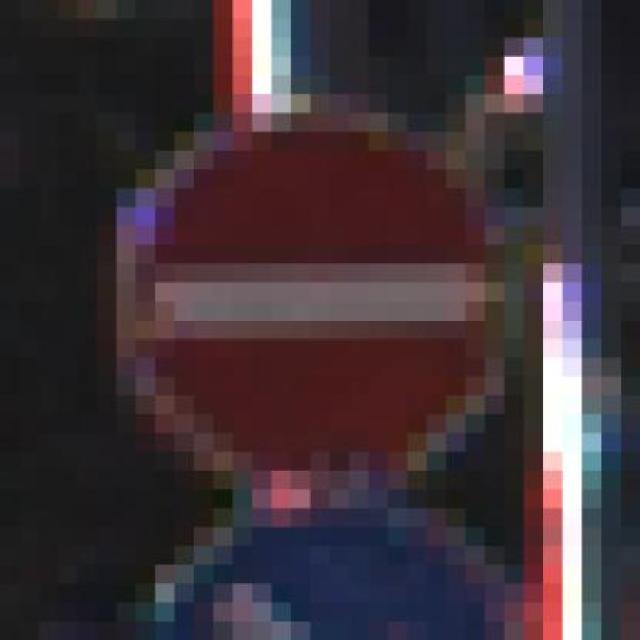B2: (119, 100, 508, 494)
